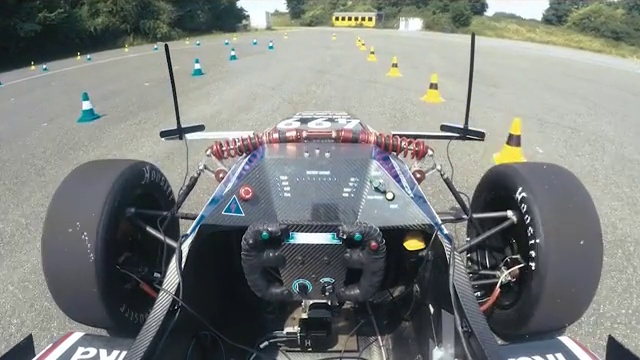Cone: (493, 117, 531, 163), (420, 72, 446, 104), (77, 91, 100, 124), (386, 56, 403, 79), (190, 57, 206, 77)
